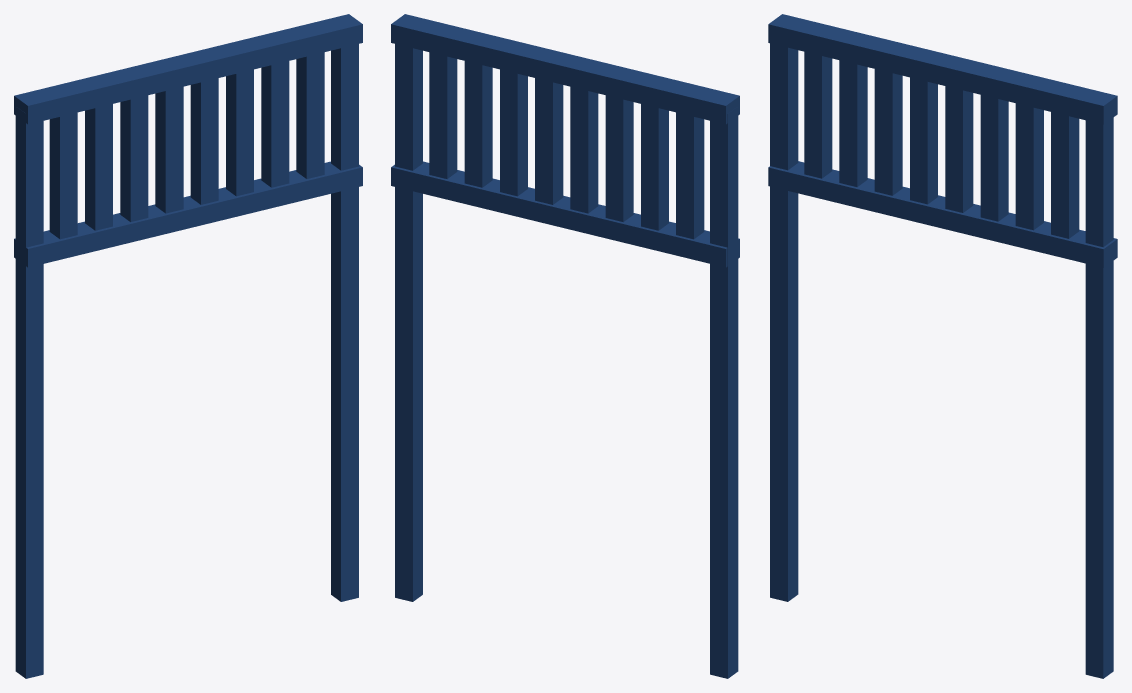
File: Grade.fbx
The picture shows the model from 3 angles, left to right: view 1: azimuth 30°, elevation 25°; view 2: azimuth 150°, elevation 25°; view 3: azimuth 330°, elevation 25°; orthographic projection.
Parts seen in each view (by area): view 1: Cubo.019; view 2: Cubo.019; view 3: Cubo.019.
Part boxes in pixels (box(x1,y1,x2,y2)): Cubo.019: box(14, 14, 362, 678); Cubo.019: box(391, 14, 739, 678); Cubo.019: box(768, 14, 1117, 678).
Bounding box in the file's own units: 306 × 501 × 22.17.
